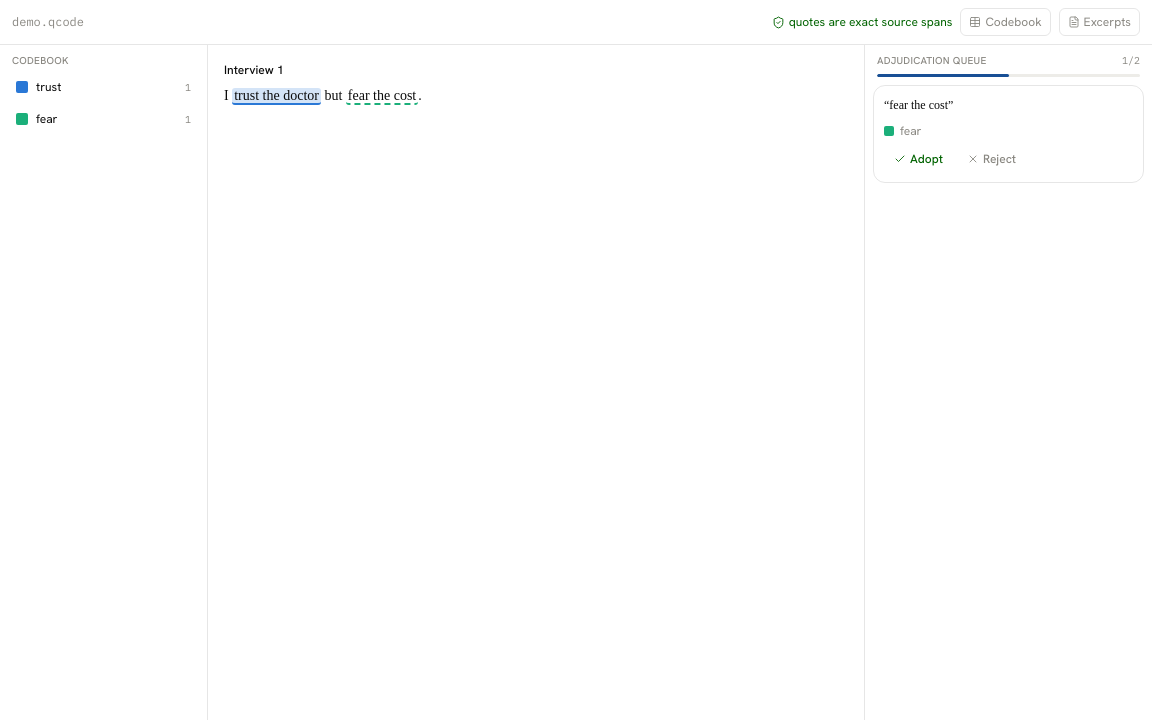
Test case: QCodeWorkbench › adopting a candidate empties the queue and turns its span solid
Expected: the text "fear the cost" is shown, x1=346 y1=88 x2=418 y2=105
Step 1. Click the button "Adopt" → click(918, 158), box x1=884 y1=146 x2=953 y2=172
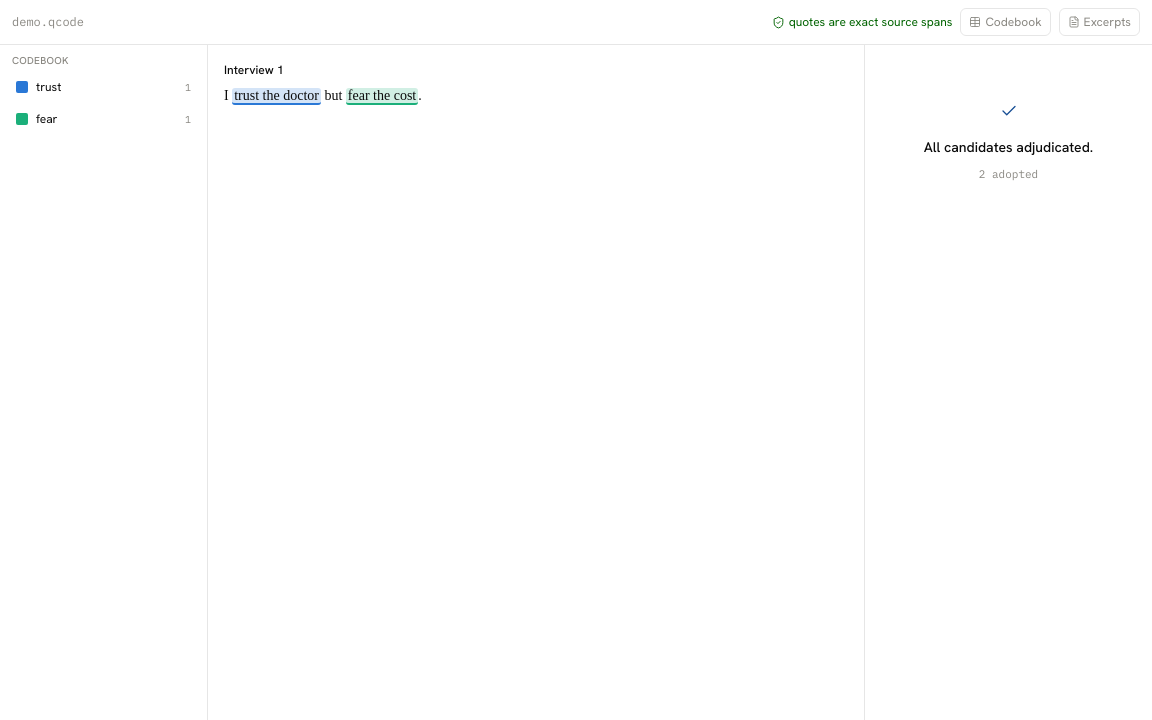
Expected: the text "All candidates adjudicated." is shown, x1=924 y1=137 x2=1093 y2=158
